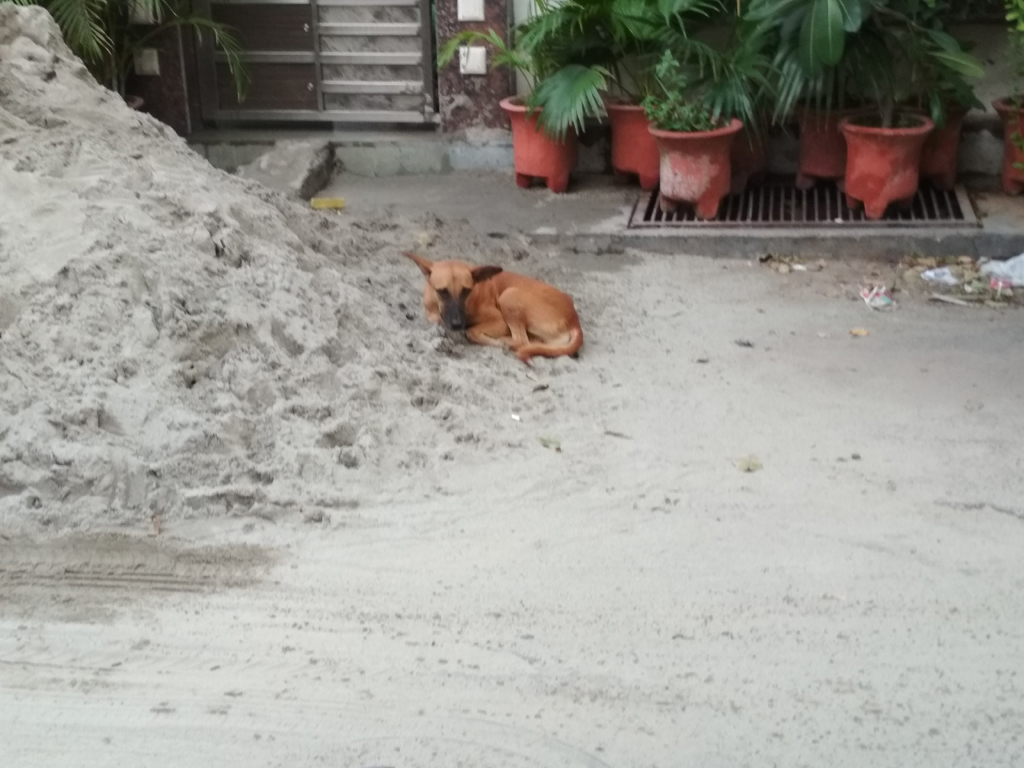dog: (404, 253, 585, 364)
